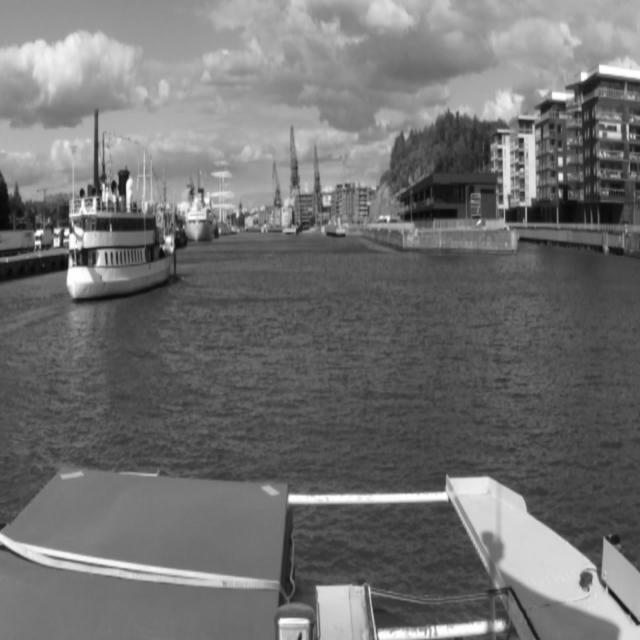ship: (65, 169, 178, 301), (184, 186, 208, 242)
